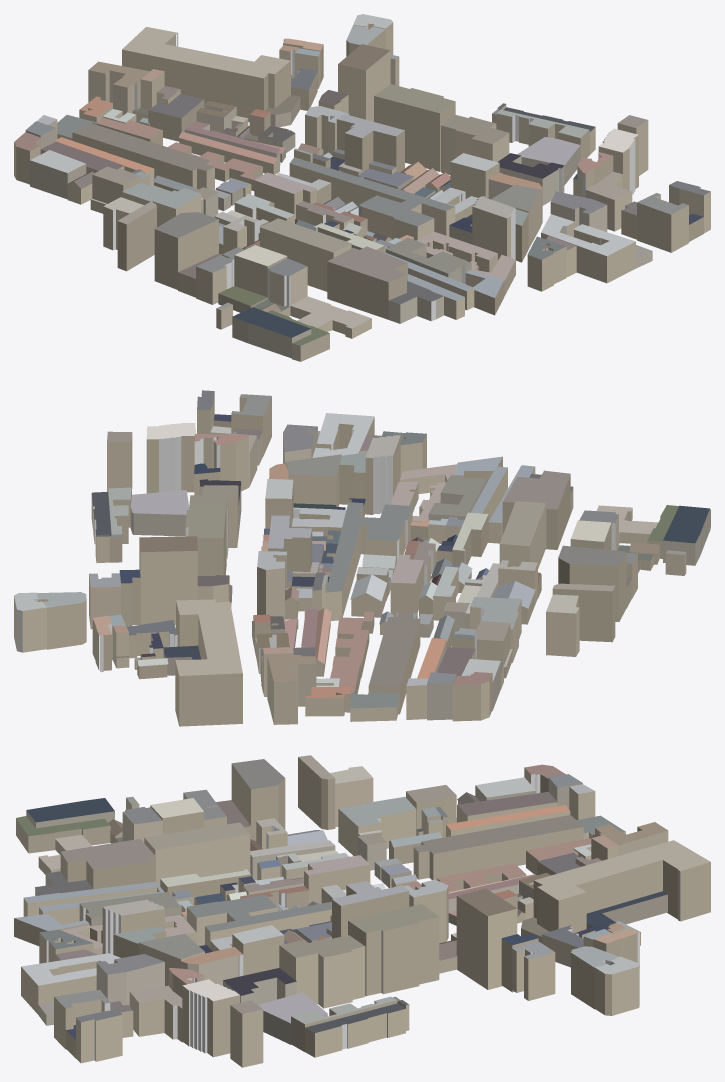
3 renders of one model, top to bottom at view 1: azimuth 30°, elevation 25°; view 2: azimuth 150°, elevation 25°; view 3: azimuth 270°, elevation 25°, orthographic. The views are drawn at different scales.
Visible parts, largest first — view 1: tuile; view 2: tuile; view 3: tuile.
Boxes of the visible parts, bbox=[...] form: tuile: bbox=[14, 14, 710, 361]; tuile: bbox=[14, 390, 710, 726]; tuile: bbox=[14, 755, 710, 1067].
Size of the model in its own units: 265 by 38.38 by 299.
